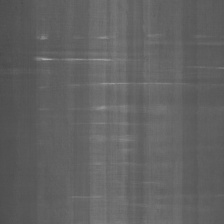waist_folding: (25, 20, 224, 204)
